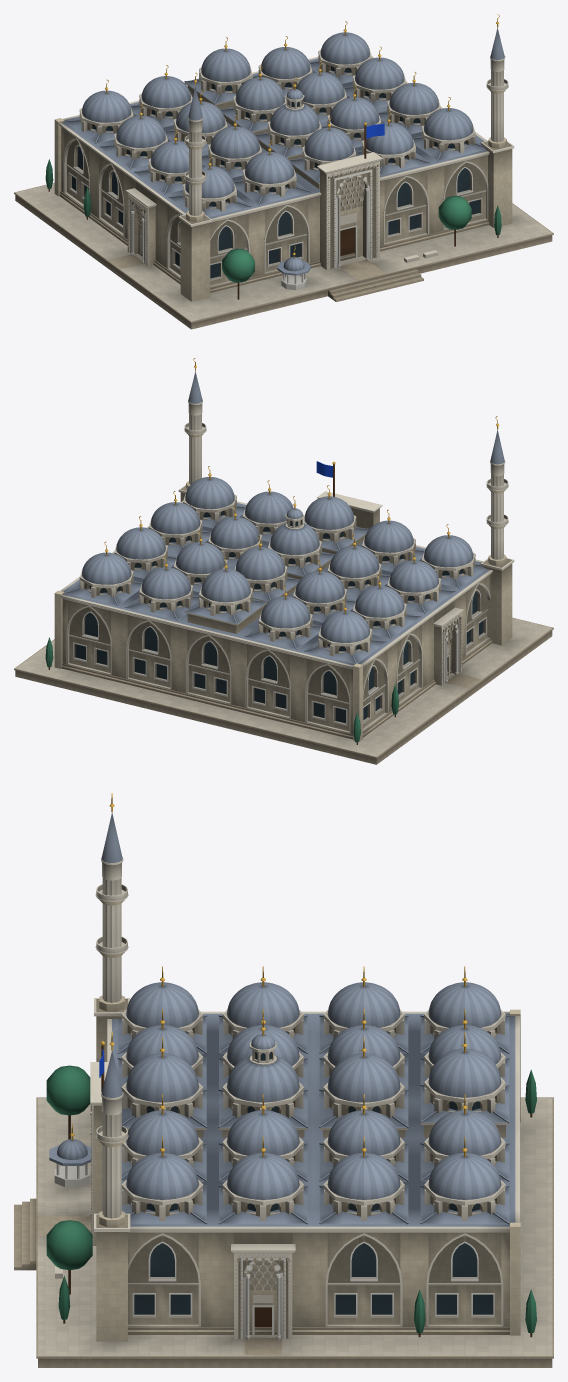
Rendered from lm_ulucami.glb.
3 views of the same model, one above another, from view 1: azimuth 30°, elevation 25°; view 2: azimuth 150°, elevation 25°; view 3: azimuth 270°, elevation 25° (orthographic). The views are drawn at different scales.
Visible parts, largest first — view 1: lm_ulucami; view 2: lm_ulucami; view 3: lm_ulucami.
Part boxes in pixels (bbox=[...]): lm_ulucami: bbox=[14, 14, 553, 329]; lm_ulucami: bbox=[14, 358, 553, 764]; lm_ulucami: bbox=[14, 793, 553, 1367].
Size of the model in its own units: 2.31 by 1.41 by 2.04.
Materials: 1 (1 with a texture image).
